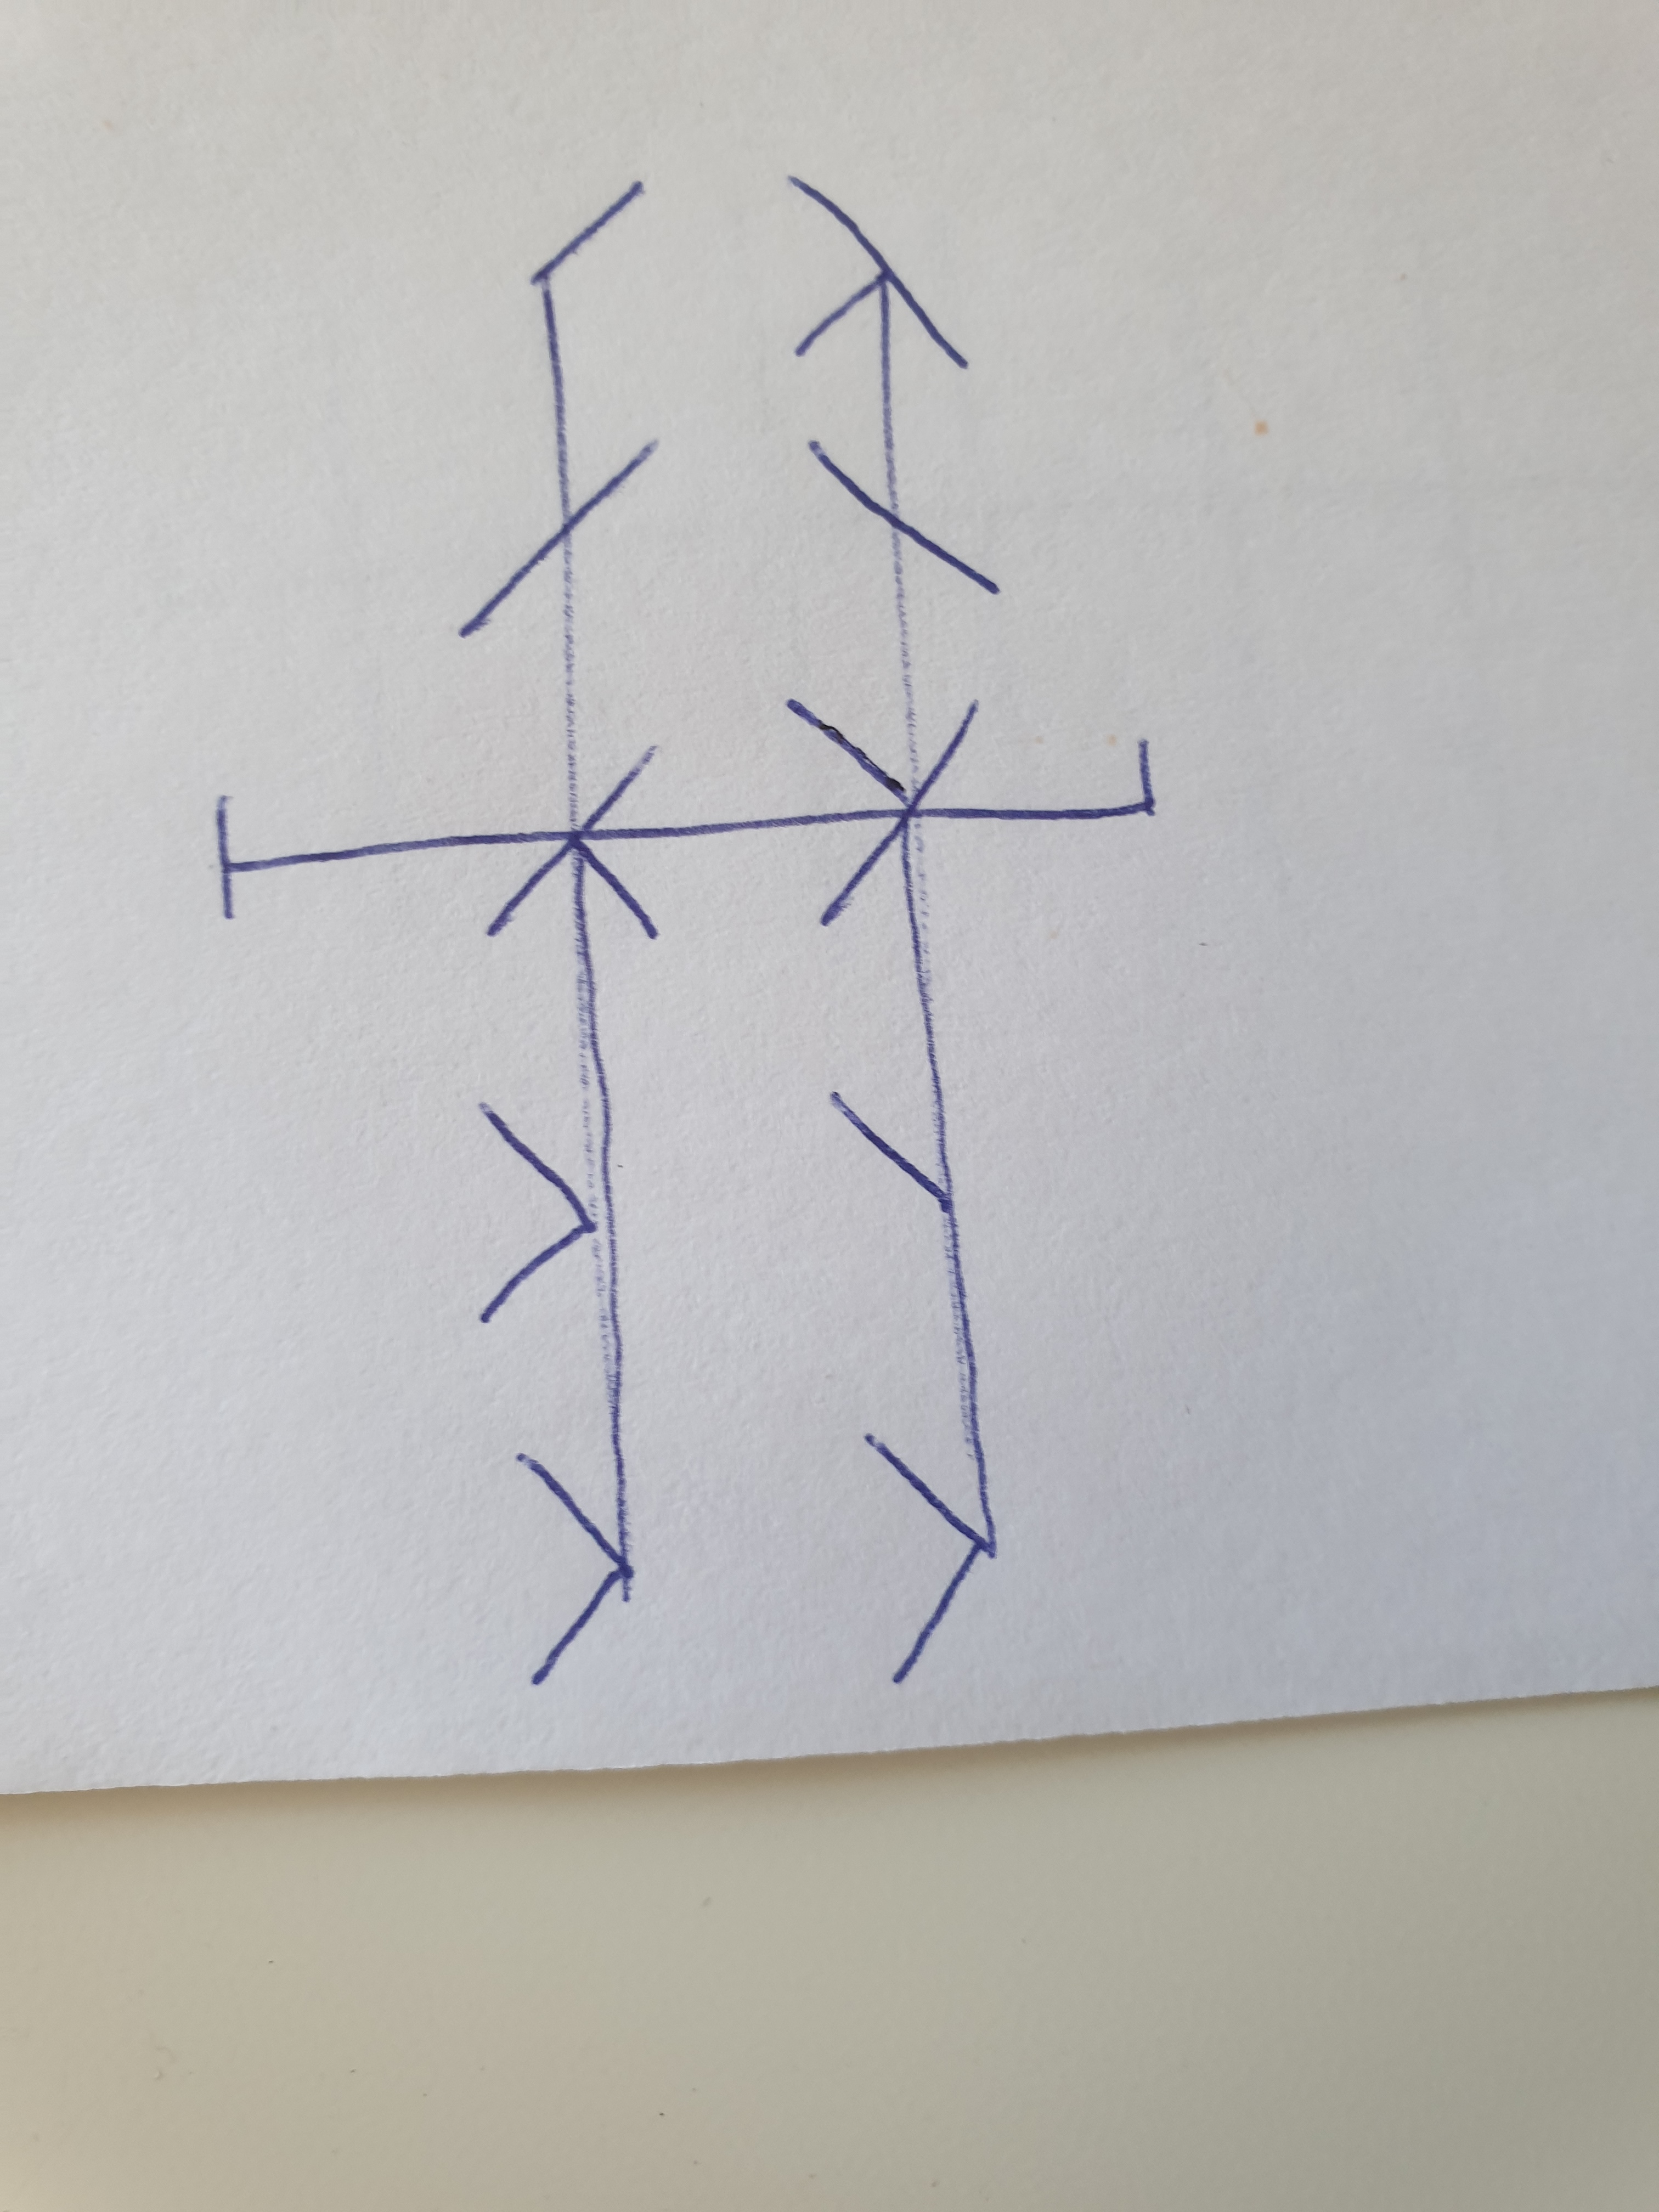Bar: (786, 174, 1002, 1693), (453, 178, 660, 1684)
Barcode: (213, 176, 1159, 1684)
End: (972, 738, 1157, 827)
Start: (211, 794, 490, 921)
